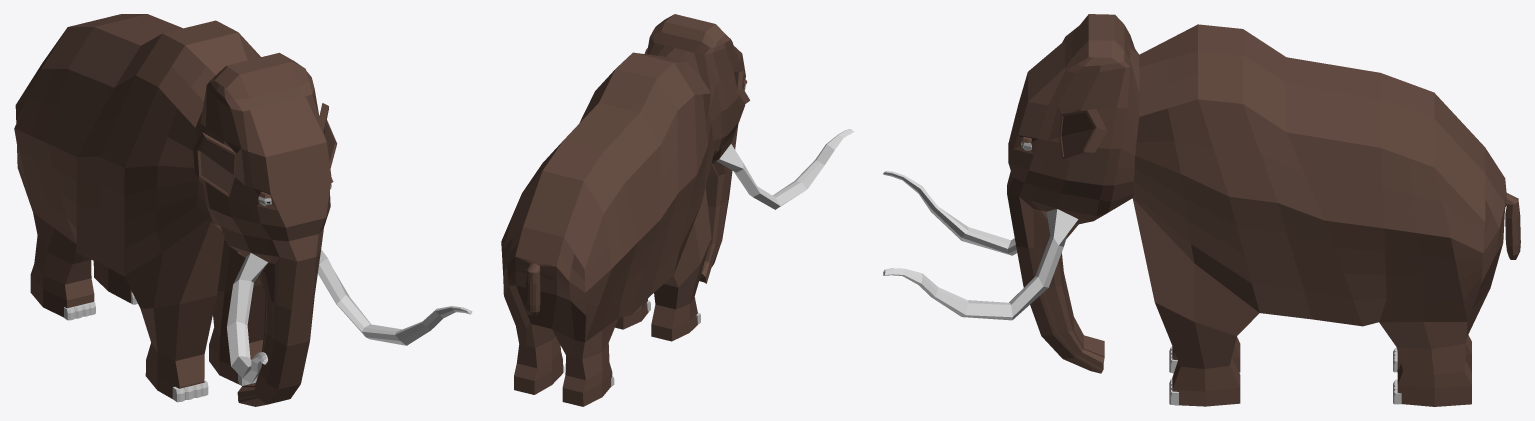
The model's file is Mammoth.fbx.
3 views of the same model, side by side, from view 1: azimuth 30°, elevation 25°; view 2: azimuth 150°, elevation 25°; view 3: azimuth 270°, elevation 25° (orthographic). The views are drawn at different scales.
Visible parts, largest first — view 1: Plane; view 2: Plane; view 3: Plane.
Part boxes in pixels (x1,y1,x2,y2): Plane: (14, 14, 472, 406); Plane: (501, 14, 854, 406); Plane: (883, 14, 1520, 406).
Size of the model in its own units: 323 by 517 by 841.
